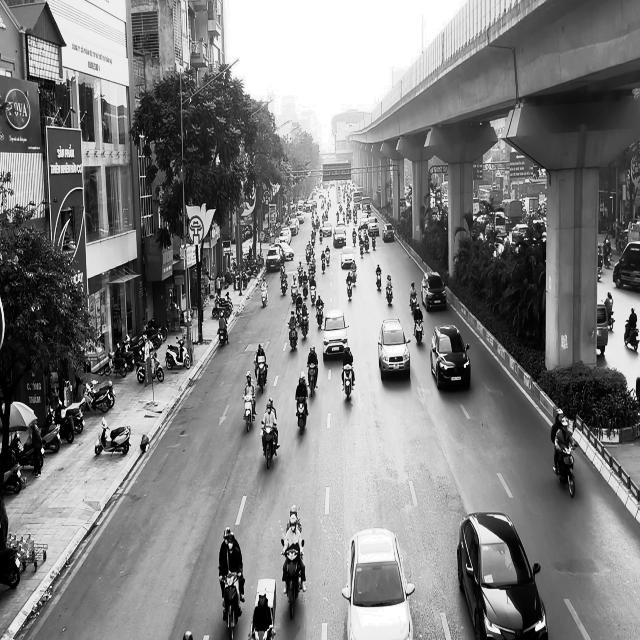car: (457, 512, 548, 640), (342, 527, 415, 639), (430, 324, 471, 391), (377, 318, 411, 379), (612, 240, 640, 291), (322, 308, 350, 358), (421, 272, 446, 311), (596, 300, 608, 355), (340, 246, 355, 268), (382, 223, 394, 242)
motorbike: (281, 538, 304, 619), (219, 571, 242, 639), (94, 416, 131, 455), (553, 443, 577, 497), (260, 422, 279, 469), (243, 392, 256, 432), (624, 319, 640, 351), (295, 396, 308, 435), (341, 364, 354, 400), (254, 358, 267, 393), (306, 363, 318, 397), (287, 322, 298, 351), (413, 318, 424, 344), (315, 303, 324, 329), (260, 283, 268, 307), (385, 284, 393, 304), (409, 294, 417, 313), (346, 277, 352, 300), (376, 271, 382, 290)
